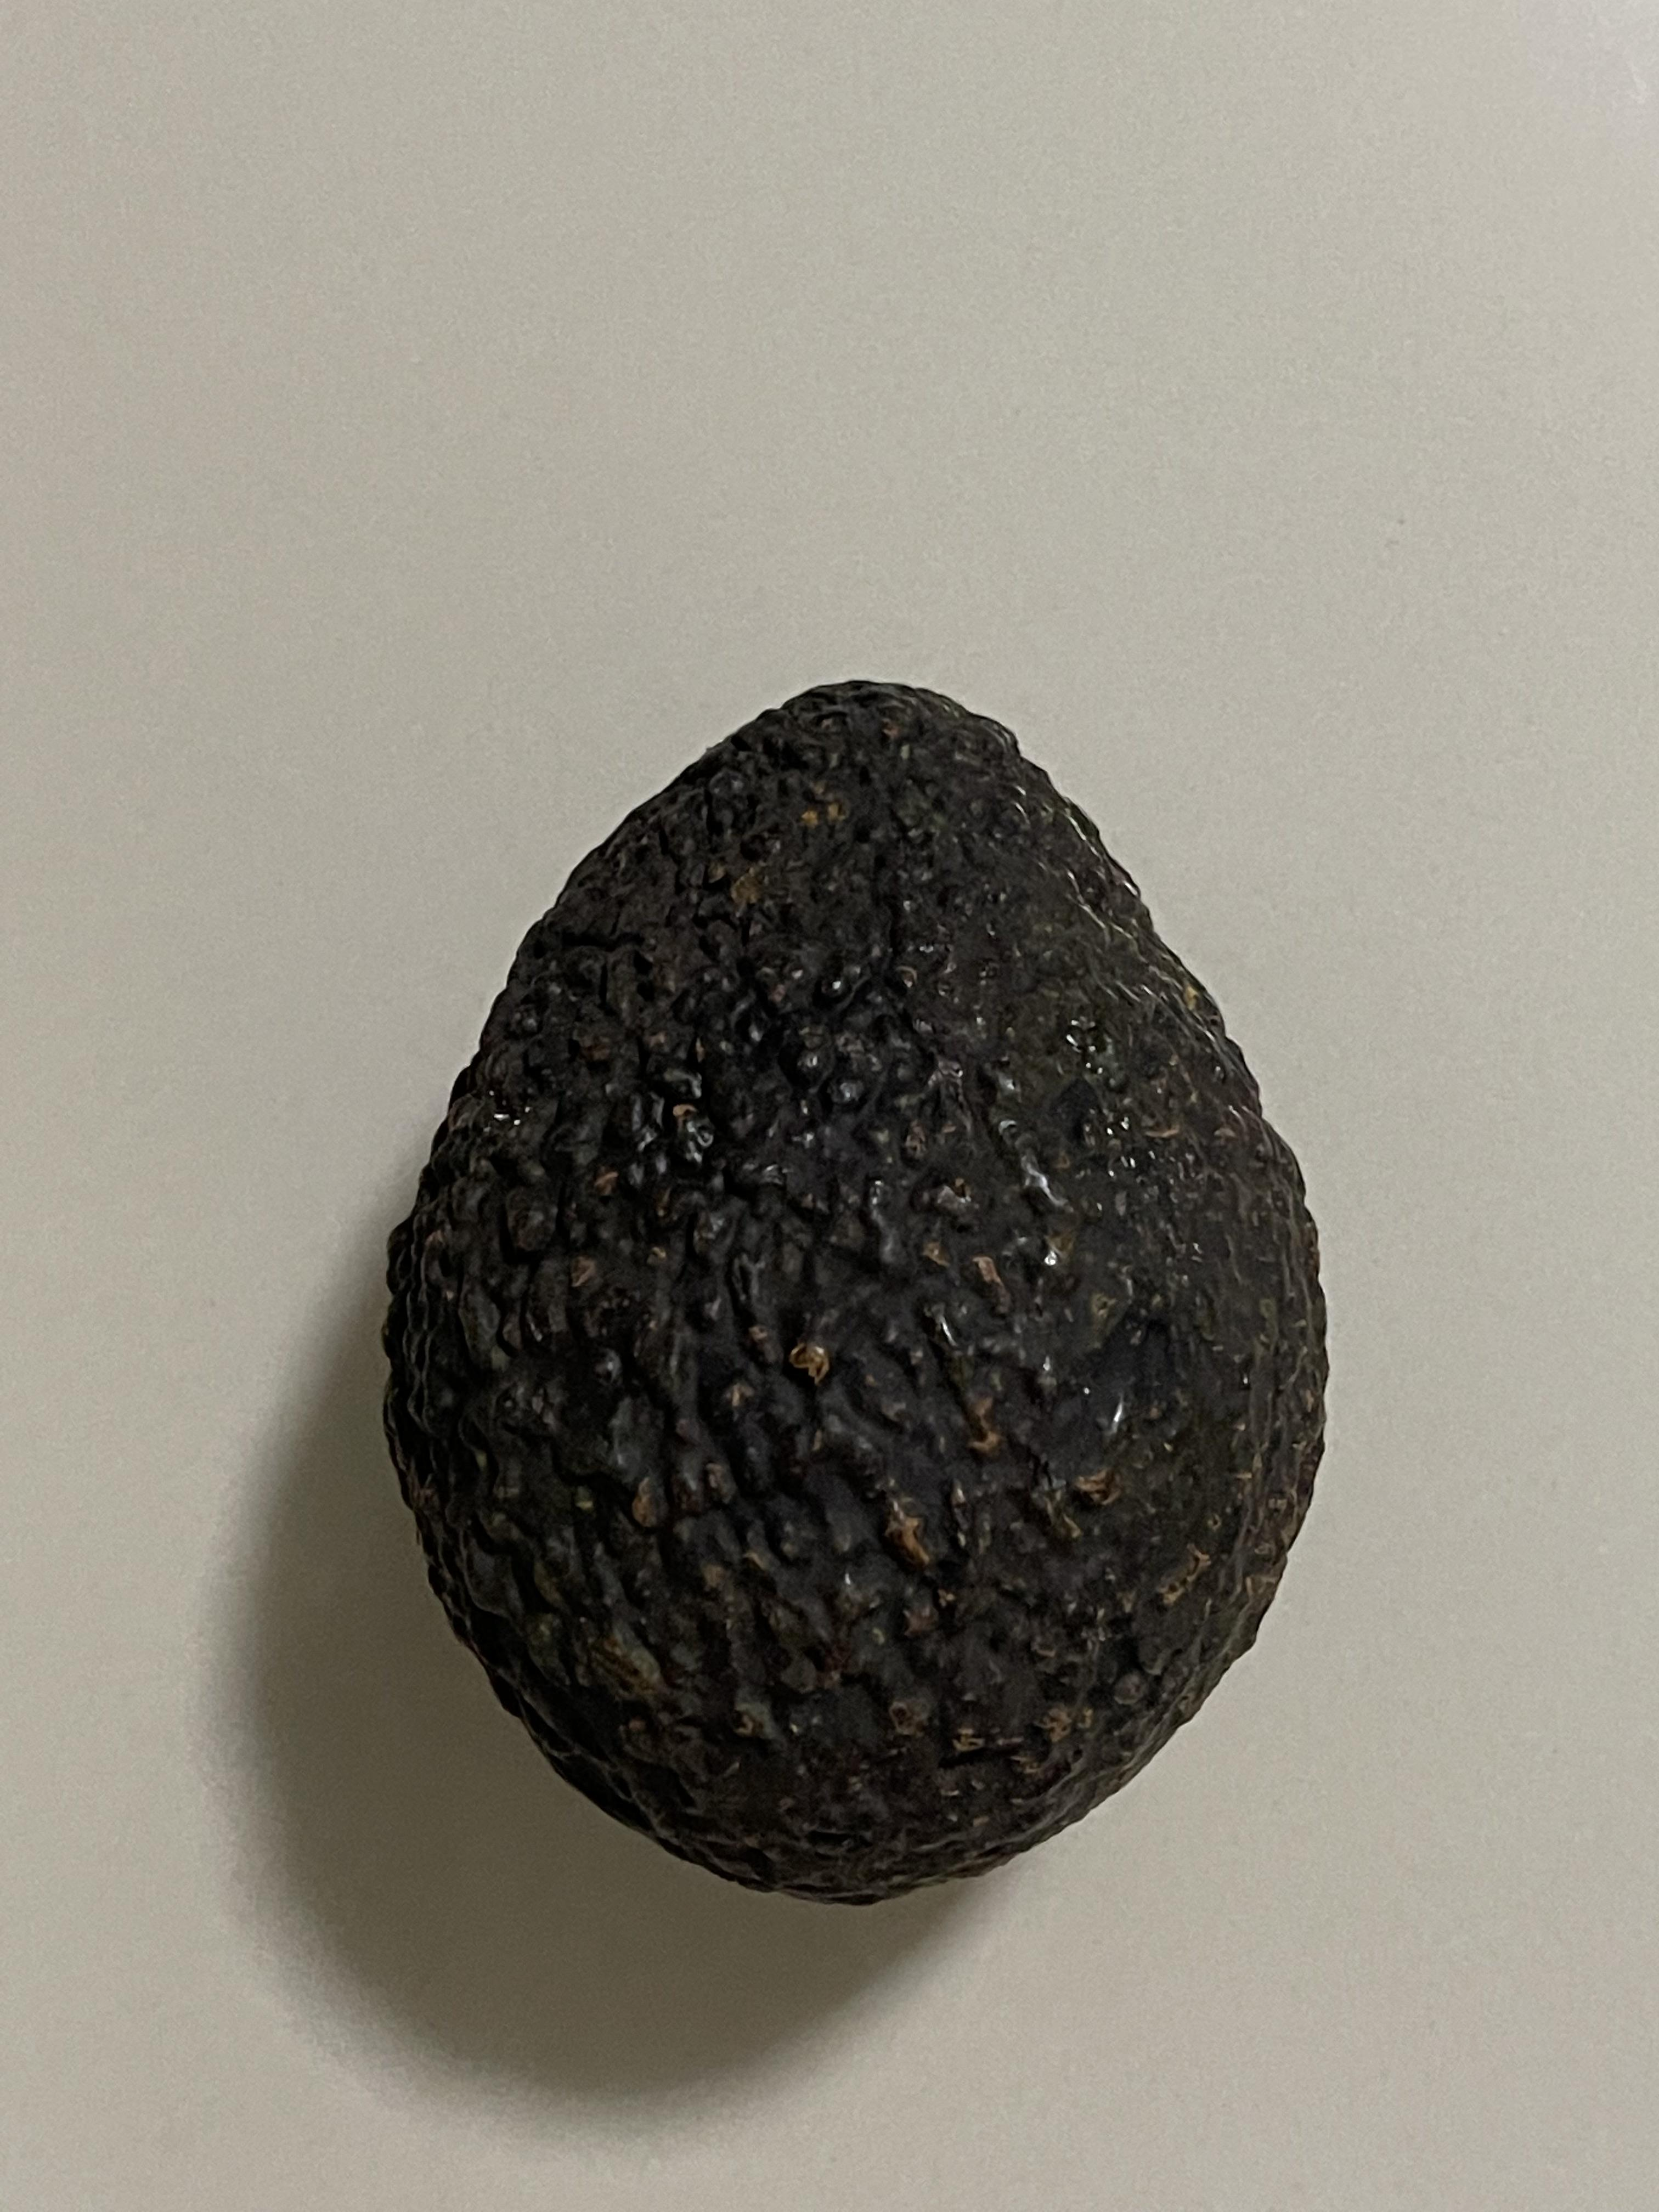Level1: (357, 631, 1375, 1928)
